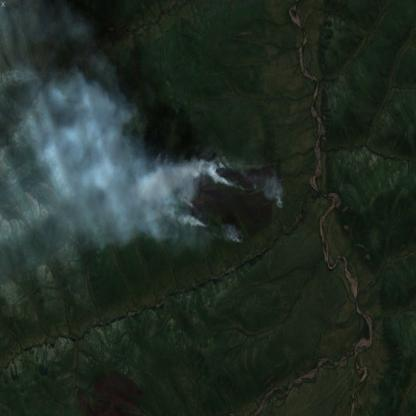fire: (150, 148, 285, 246)
